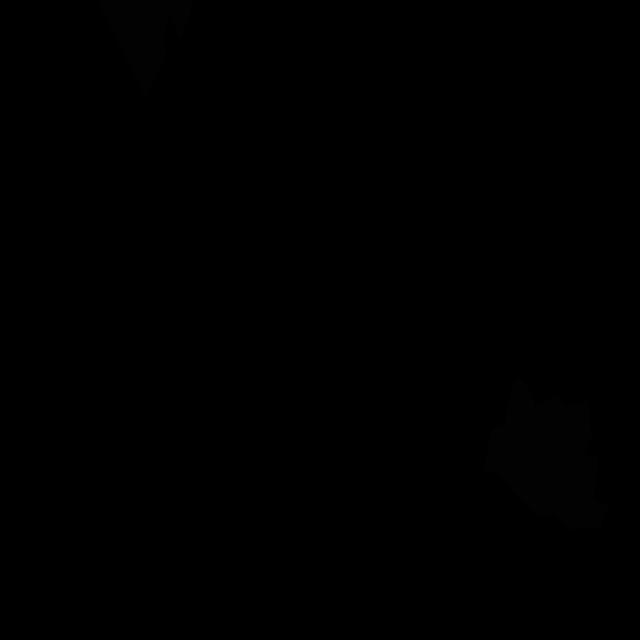cardboard: (484, 377, 609, 531), (96, 0, 194, 99)
